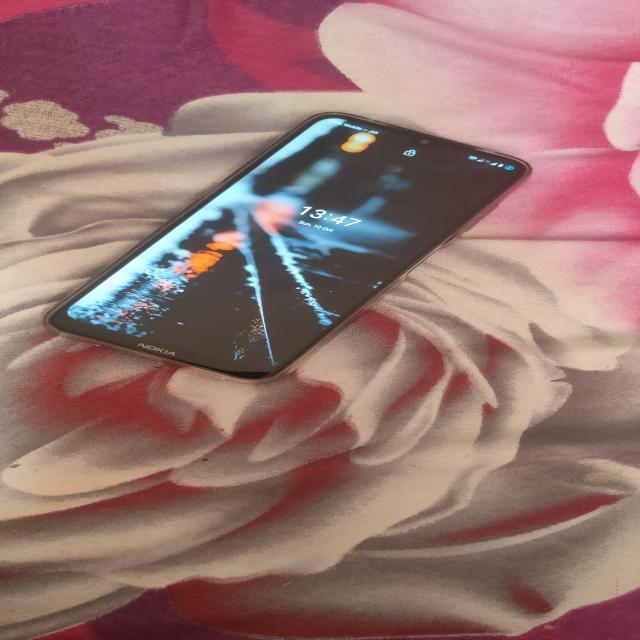Phone: (42, 106, 534, 384)
